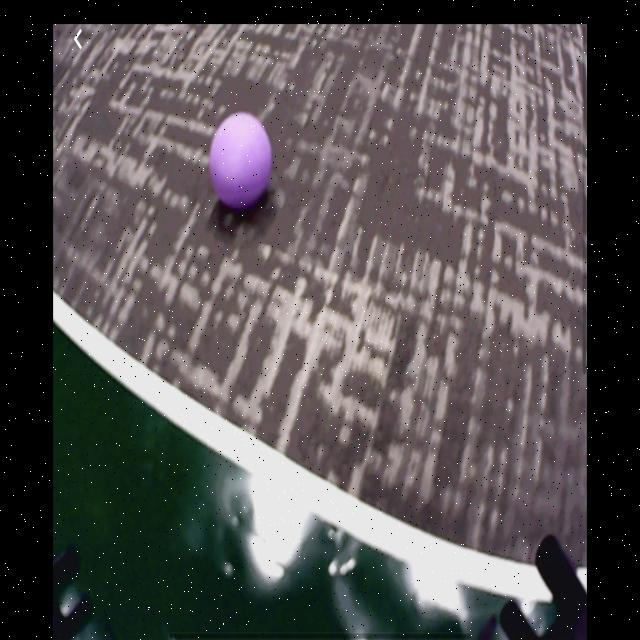ball: (211, 114, 274, 210)
